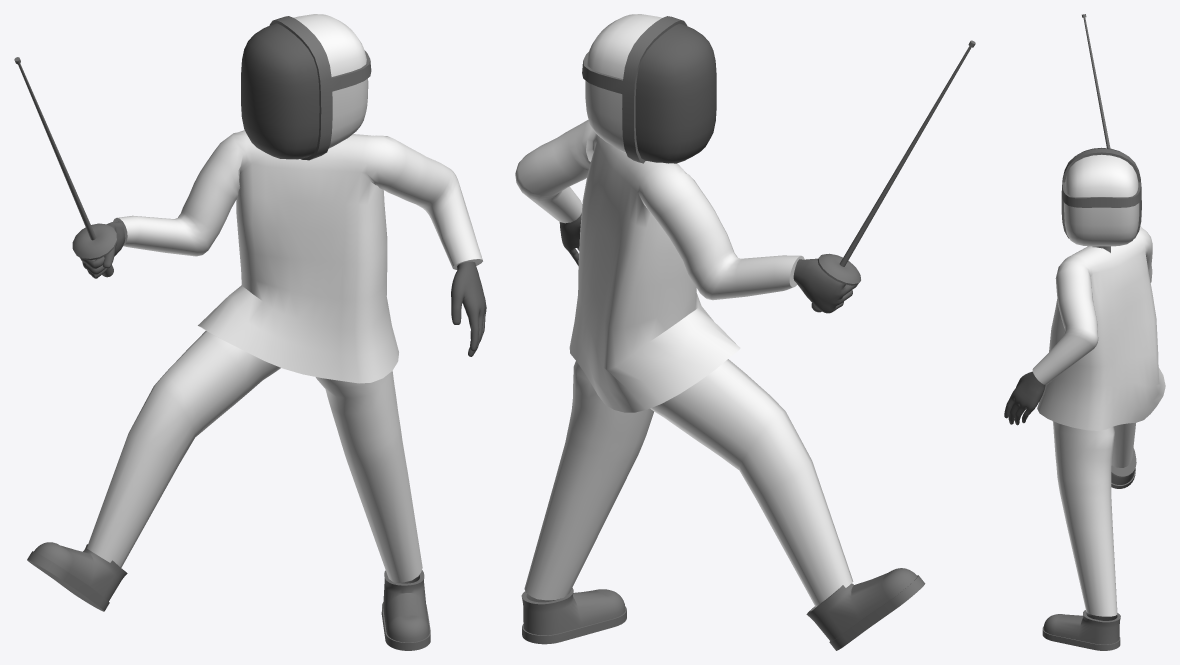
The model's file is person_fencing.gltf.
The picture shows the model from 3 angles, left to right: view 1: azimuth 30°, elevation 25°; view 2: azimuth 150°, elevation 25°; view 3: azimuth 270°, elevation 25°; orthographic projection. The views are drawn at different scales.
Visible parts, largest first — view 1: Circle.067, Cube.244, Sphere.018, Sphere.017, Cube.245, Circle.068; view 2: Circle.067, Cube.244, Sphere.018, Sphere.017, Cube.245, Circle.068; view 3: Circle.067, Cube.244, Sphere.017, Cube.245, Sphere.018, Circle.068.
Part boxes in pixels (left/top/right/bottom): Circle.067: left=80, top=130, right=486, bottom=582; Cube.244: left=241, top=14, right=368, bottom=159; Sphere.018: left=27, top=542, right=127, bottom=611; Sphere.017: left=381, top=570, right=430, bottom=650; Cube.245: left=269, top=16, right=371, bottom=160; Circle.068: left=14, top=57, right=117, bottom=277; Circle.067: left=515, top=119, right=857, bottom=606; Cube.244: left=585, top=14, right=716, bottom=163; Sphere.018: left=806, top=568, right=925, bottom=650; Sphere.017: left=521, top=588, right=626, bottom=644; Cube.245: left=582, top=16, right=687, bottom=163; Circle.068: left=811, top=40, right=975, bottom=312; Circle.067: left=1004, top=226, right=1165, bottom=616; Cube.244: left=1064, top=147, right=1139, bottom=252; Sphere.017: left=1042, top=610, right=1120, bottom=650; Cube.245: left=1061, top=148, right=1141, bottom=238; Sphere.018: left=1111, top=448, right=1136, bottom=488; Circle.068: left=1082, top=14, right=1110, bottom=148.
Bounding box in the file's own units: 1.5 × 2.16 × 0.6485.
1 material, 1 textured.
